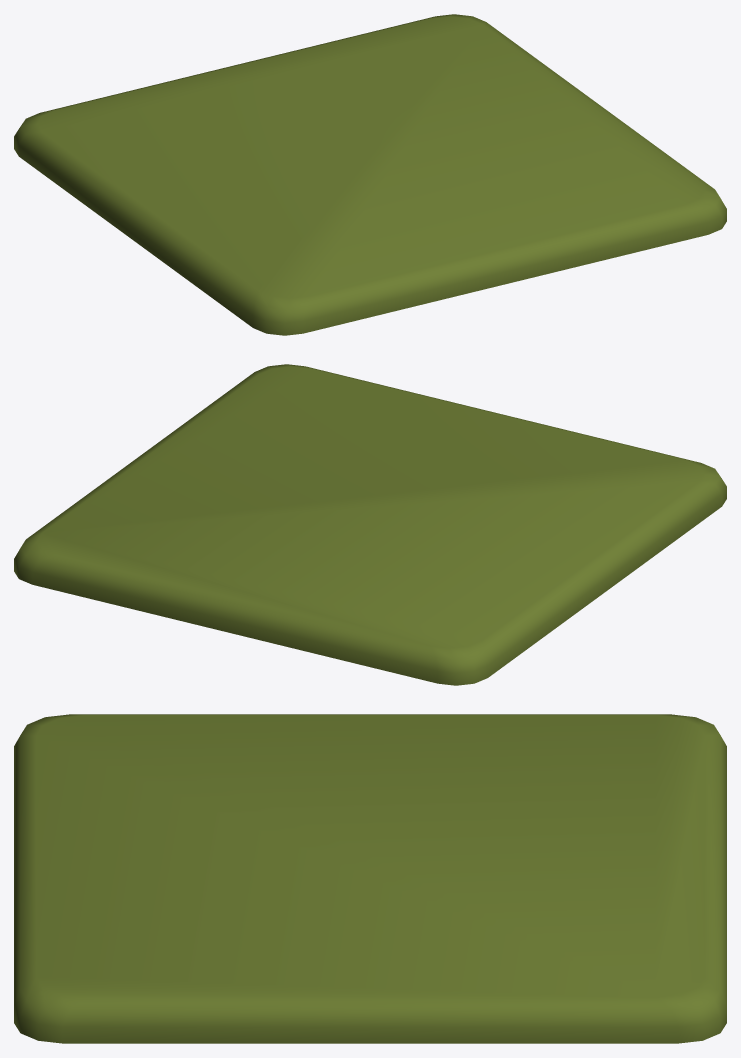
Rendered from Floor (Grass).fbx.
3 renders of one model, top to bottom at view 1: azimuth 30°, elevation 25°; view 2: azimuth 150°, elevation 25°; view 3: azimuth 270°, elevation 25°, orthographic. The views are drawn at different scales.
Parts seen in each view (by area): view 1: Floor (Grass); view 2: Floor (Grass); view 3: Floor (Grass).
Part boxes in pixels (x1,y1,x2,y2): Floor (Grass): (14, 14, 726, 335); Floor (Grass): (14, 364, 726, 685); Floor (Grass): (14, 714, 726, 1043).
Size of the model in its own units: 3829 by 216 by 3829.
